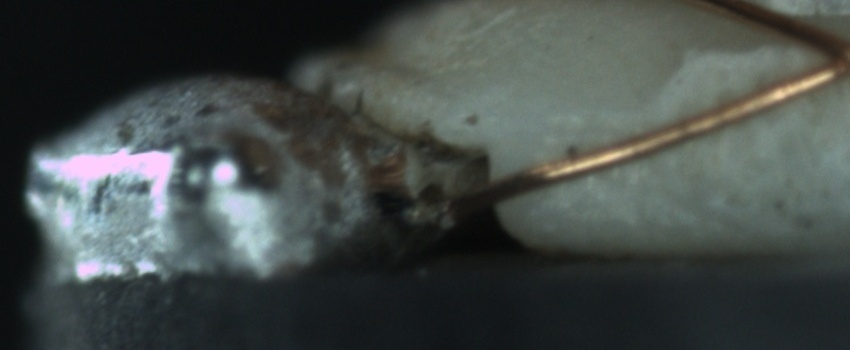CL: (796, 14, 849, 86)
